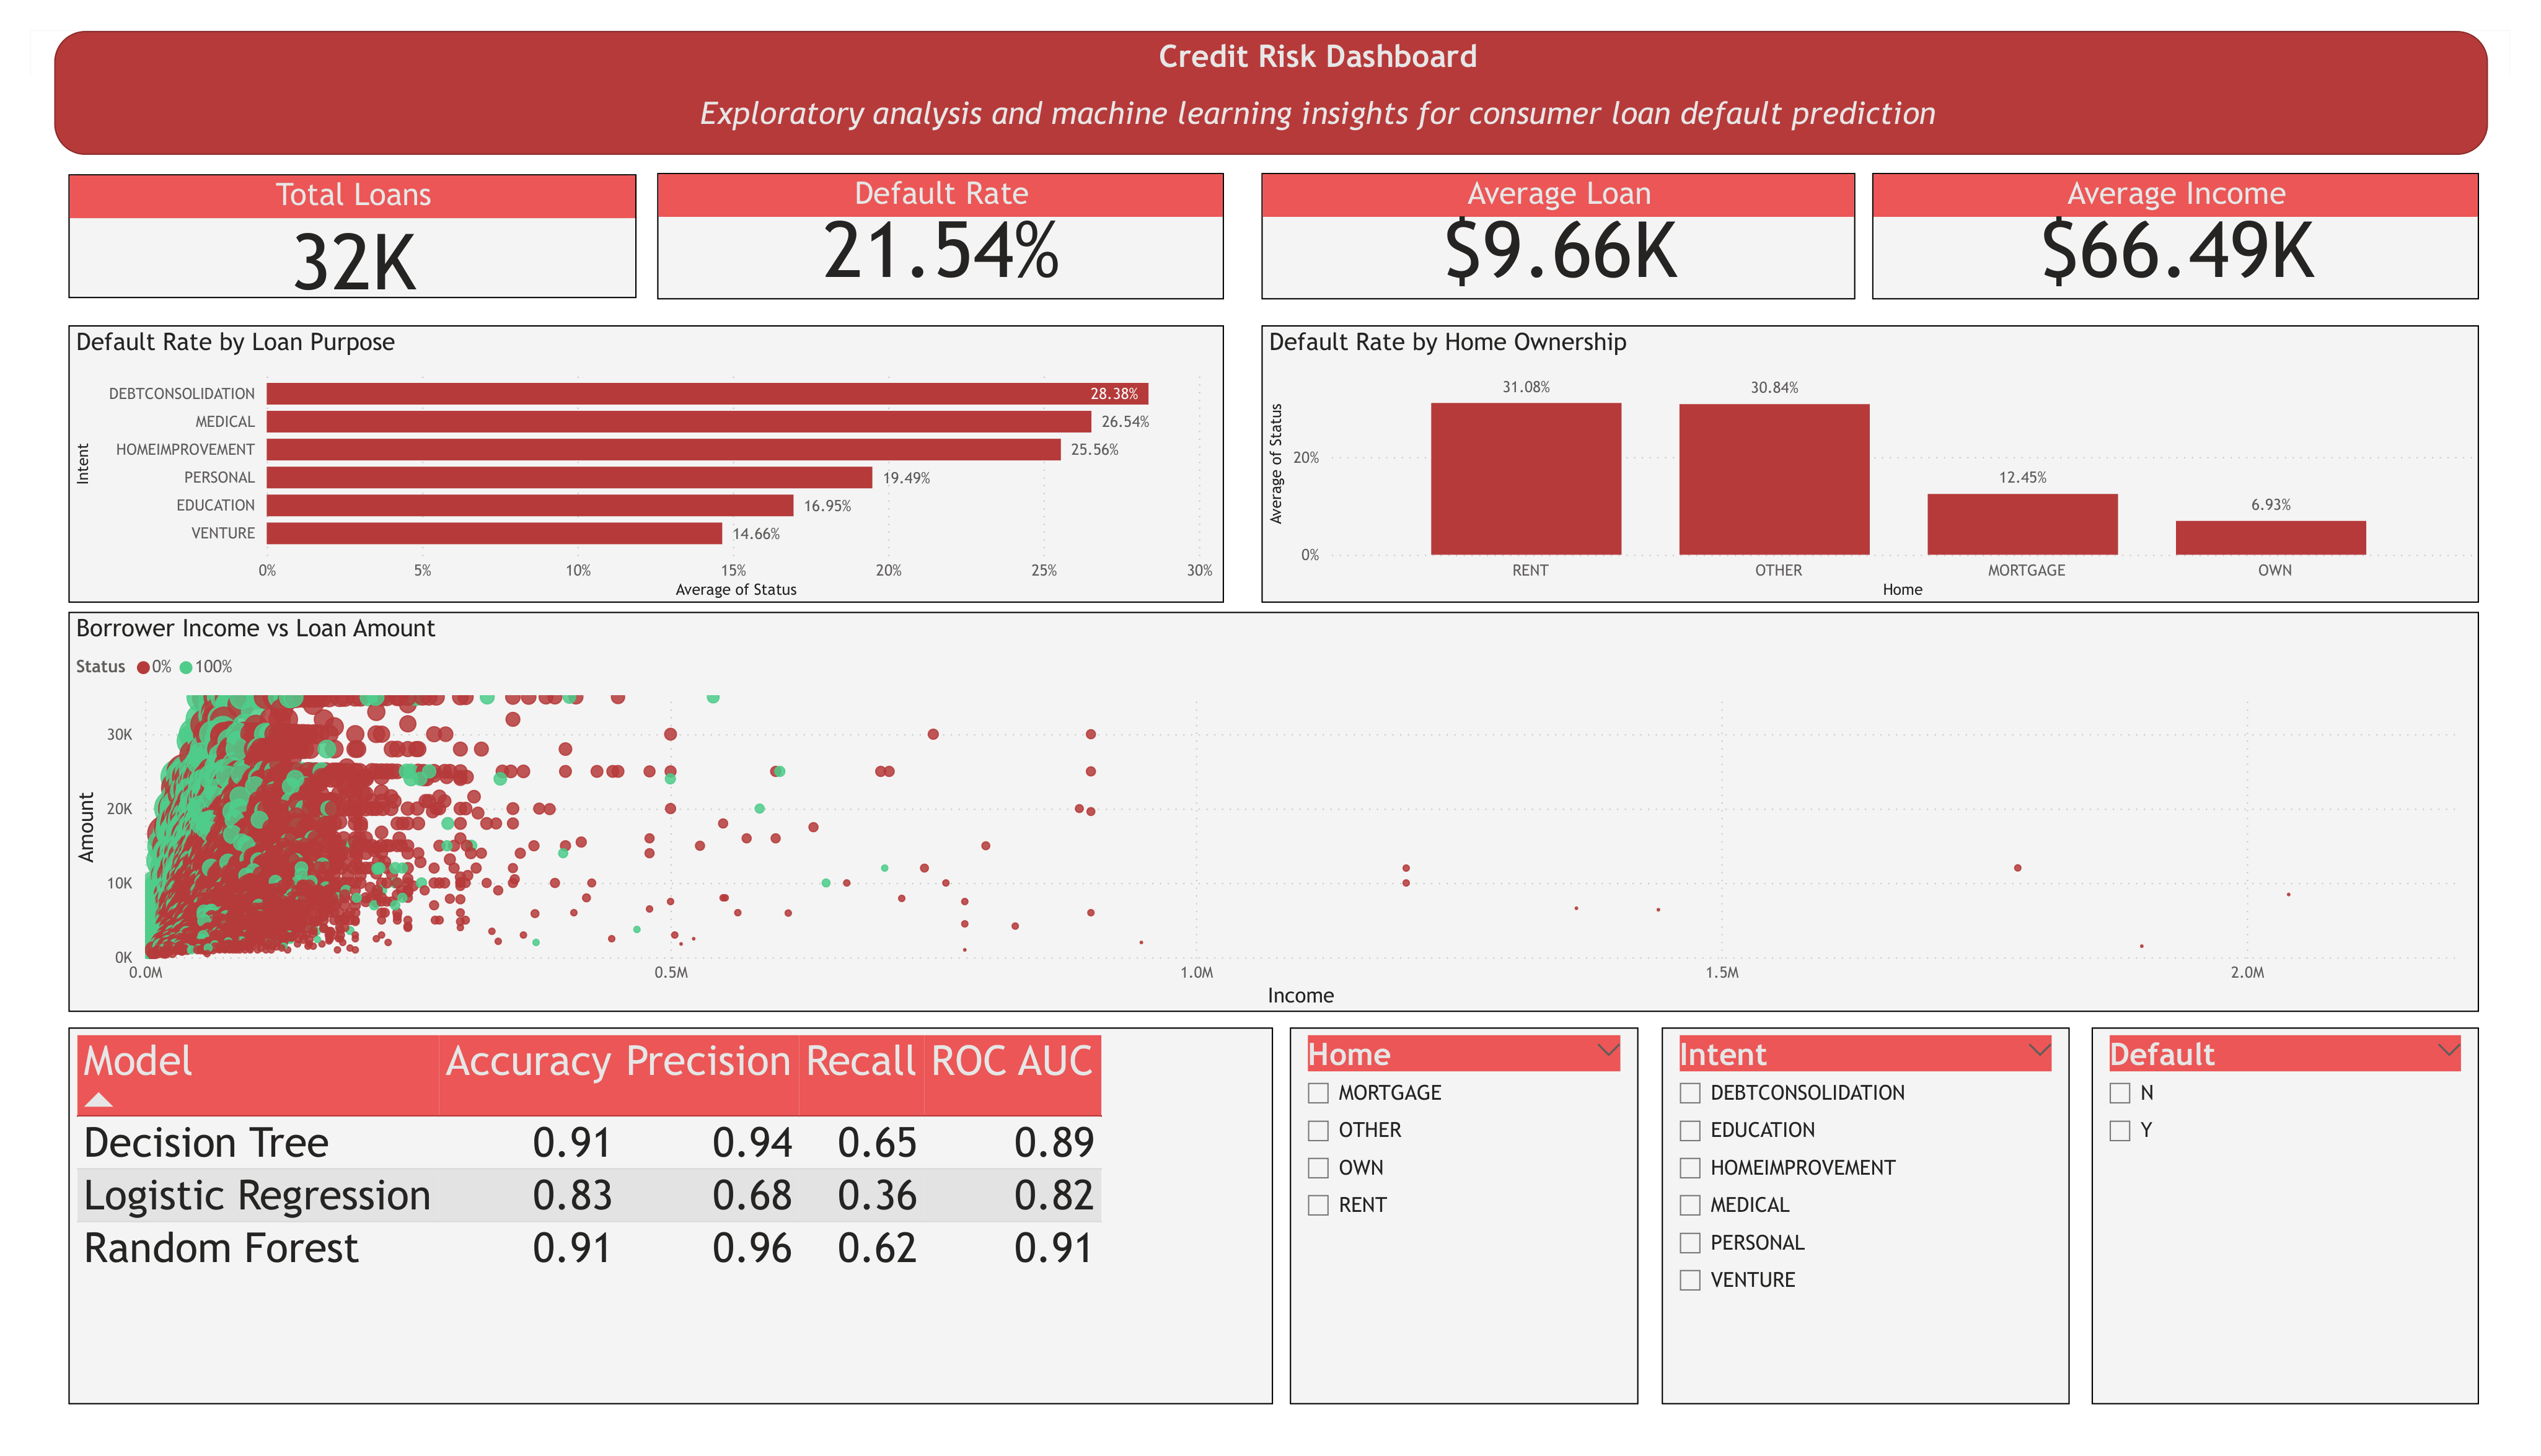

The page's visual inventory and layout, read from the dashboard file:
{"tool":"powerbi","page":{"name":"Executive Overview","canvas":[1920,1080],"ordinal":0},"visuals":[{"type":"card","title":"Total Loans","fields":{"Values":["clean_credit_risk.Total Loans"]},"box":[28.9,111.1,439.6,95.9],"z":0},{"type":"card","title":"Default Rate","fields":{"Values":["clean_credit_risk.Default Rate"]},"box":[484.8,110.4,439.6,97.7],"z":1000},{"type":"card","title":"Average Loan","fields":{"Values":["clean_credit_risk.Average Loan"]},"box":[953.4,110.4,459.5,97.7],"z":2000},{"type":"card","title":"Average Income","fields":{"Values":["clean_credit_risk.Average Income"]},"box":[1425.5,110.4,470.4,97.7],"z":3000},{"type":"clusteredBarChart","title":"Default Rate by Loan Purpose","fields":{"Category":["clean_credit_risk.Intent"],"Y":["Avg(clean_credit_risk.Status)"]},"box":[28.9,227.9,895.5,215],"z":4000},{"type":"clusteredColumnChart","title":"Default Rate by Home Ownership","fields":{"Category":["clean_credit_risk.Home"],"Y":["Avg(clean_credit_risk.Status)"]},"box":[953.4,227.9,942.5,215.3],"z":5000},{"type":"scatterChart","title":"Borrower Income vs Loan Amount","fields":{"X":["Sum(clean_credit_risk.Income)"],"Y":["Sum(clean_credit_risk.Amount)"],"Series":["clean_credit_risk.Status"],"Size":["Sum(clean_credit_risk.Percent_income)"],"Category":["clean_credit_risk.Id"]},"box":[28.9,450.5,1866.9,309.3],"z":6000},{"type":"slicer","fields":{"Values":["clean_credit_risk.Home"]},"box":[975.1,772.5,269.5,291.3],"z":8000},{"type":"slicer","fields":{"Values":["clean_credit_risk.Intent"]},"box":[1262.7,772.5,316.6,291.3],"z":9000},{"type":"slicer","fields":{"Values":["clean_credit_risk.Default"]},"box":[1595.6,772.5,300.3,291.3],"z":10000},{"type":"tableEx","fields":{"Values":["model_comparison.Model","Sum(model_comparison.Accuracy)","Sum(model_comparison.Precision)","Sum(model_comparison.Recall)","Sum(model_comparison.ROC AUC)"]},"box":[28.9,772.5,933.5,291.3],"z":11000},{"type":"shape","box":[18.1,0,1885,95.9],"z":12000},{"type":"textbox","box":[468.5,0,1056.5,95.9],"z":13000}]}

Visuals, with their boxes in screenshot pixels (x1, y1, x2, y2):
"Total Loans" card: 45,165,618,290
"Default Rate" card: 640,164,1213,291
"Average Loan" card: 1251,164,1851,291
"Average Income" card: 1867,164,2481,291
"Default Rate by Loan Purpose" clusteredBarChart: 45,317,1213,598
"Default Rate by Home Ownership" clusteredColumnChart: 1251,317,2481,598
"Borrower Income vs Loan Amount" scatterChart: 45,608,2481,1011
slicer - clean_credit_risk.Home: 1279,1028,1631,1408
slicer - clean_credit_risk.Intent: 1655,1028,2068,1408
slicer - clean_credit_risk.Default: 2089,1028,2481,1408
tableEx - model_comparison.Model x Sum(model_comparison.Accuracy): 45,1028,1262,1408
shape: 30,20,2490,145
textbox: 618,20,1997,145
